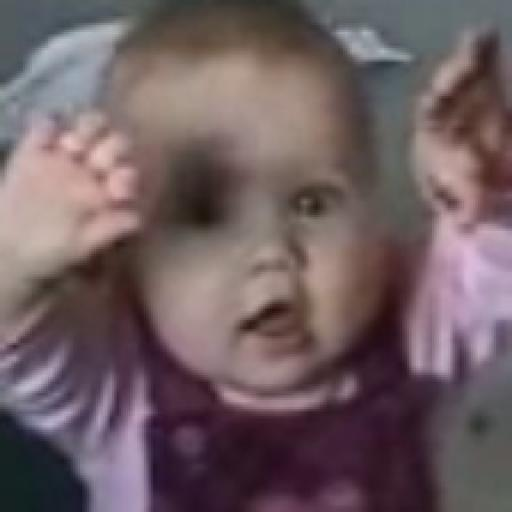Autism: (79, 4, 479, 474)
